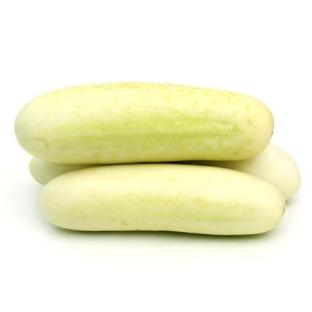Cucumber: (15, 83, 273, 163), (40, 164, 284, 235), (185, 144, 300, 199)
